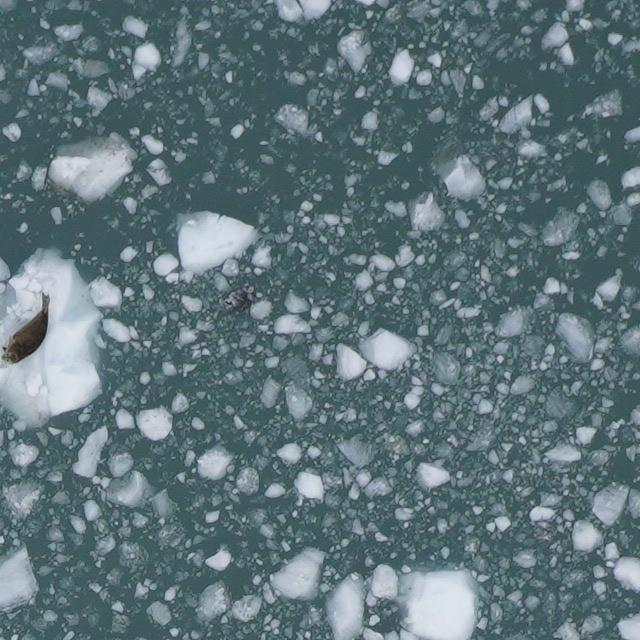seal: (0, 288, 56, 369)
